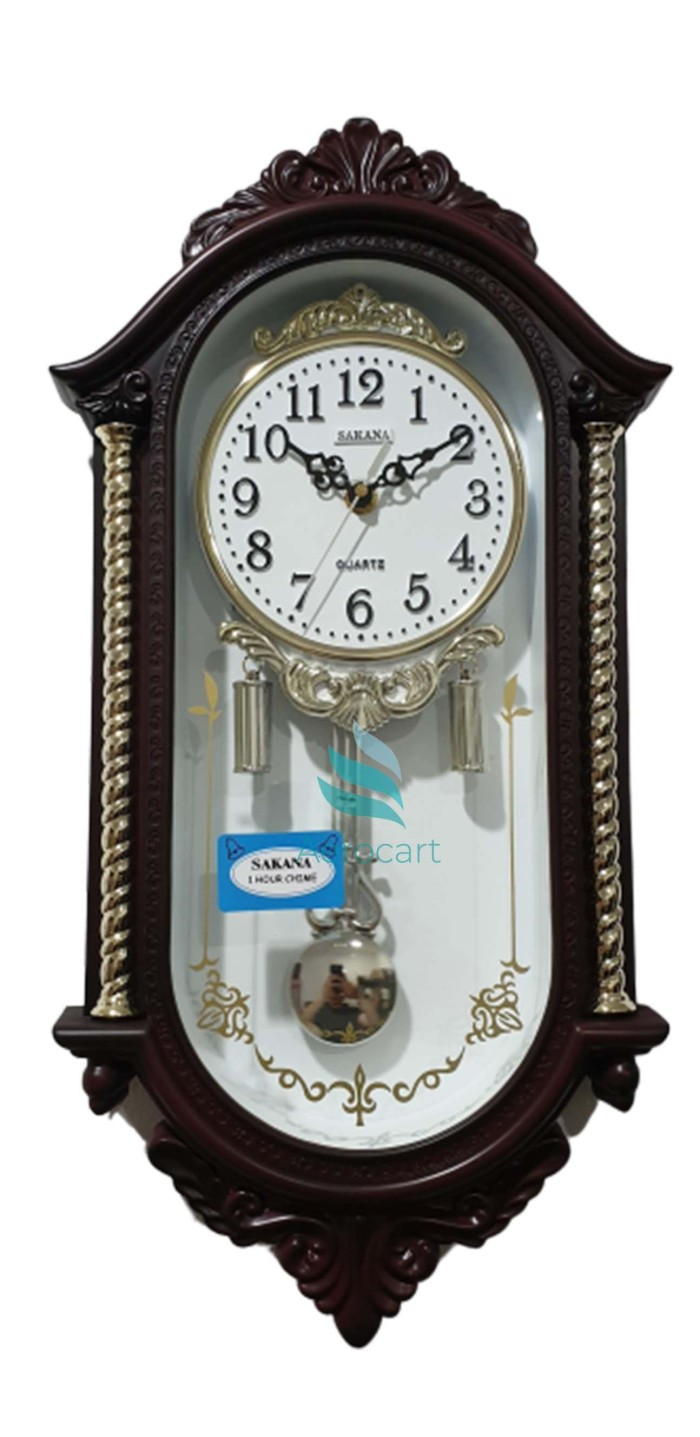jam dinding: (30, 111, 700, 1335)
